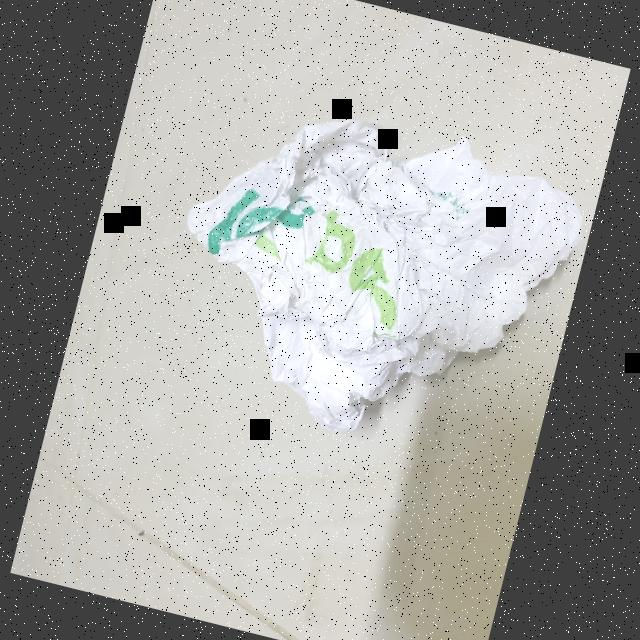plastic_bag: (130, 59, 602, 483)
